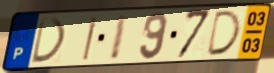7: (174, 7, 213, 61)
9: (139, 11, 170, 62)
D: (29, 16, 68, 66), (204, 9, 243, 58)
I: (108, 13, 130, 62), (80, 16, 100, 63)
